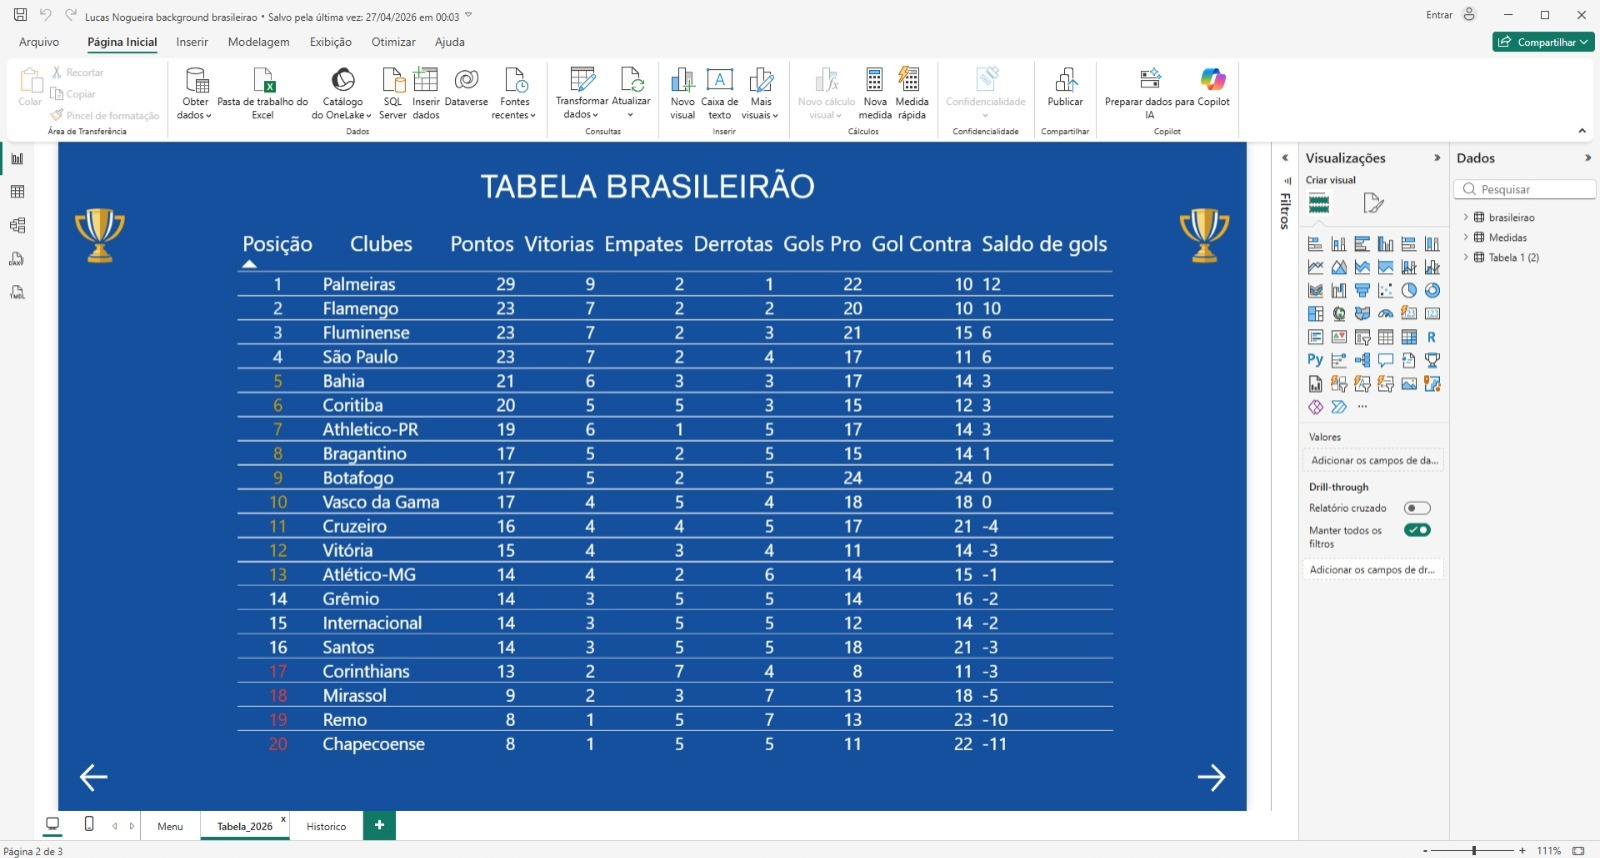

This screenshot's page, from the dashboard's own definition file:
{"tool":"powerbi","page":{"name":"Tabela_2026","canvas":[1280,720],"ordinal":1},"visuals":[{"type":"tableEx","fields":{"Values":["Tabela 1 (2).Posição","Tabela 1 (2).Clubes","Tabela 1 (2).Pontos","Tabela 1 (2).Vitorias","Tabela 1 (2).Empates","Tabela 1 (2).Derrotas","Tabela 1 (2).Gols Pro","Tabela 1 (2).Gol Contra","Tabela 1 (2).Saldo de gols"]},"box":[187.1,88.6,958.6,575.7],"z":0},{"type":"actionButton","box":[1221.4,664.3,42.9,40],"z":1},{"type":"actionButton","box":[18.6,664.3,45.7,40],"z":2}]}

Visuals, with their boxes on the page's 1280x720 design canvas (x1, y1, x2, y2). These are canvas units, not pixel positions in the 1600x858 screenshot, which may show the page scaled, cropped or inside an application window:
tableEx - Tabela 1 (2).Posição x Tabela 1 (2).Clubes: {"x1": 187, "y1": 89, "x2": 1146, "y2": 664}
actionButton: {"x1": 1221, "y1": 664, "x2": 1264, "y2": 704}
actionButton: {"x1": 19, "y1": 664, "x2": 64, "y2": 704}
